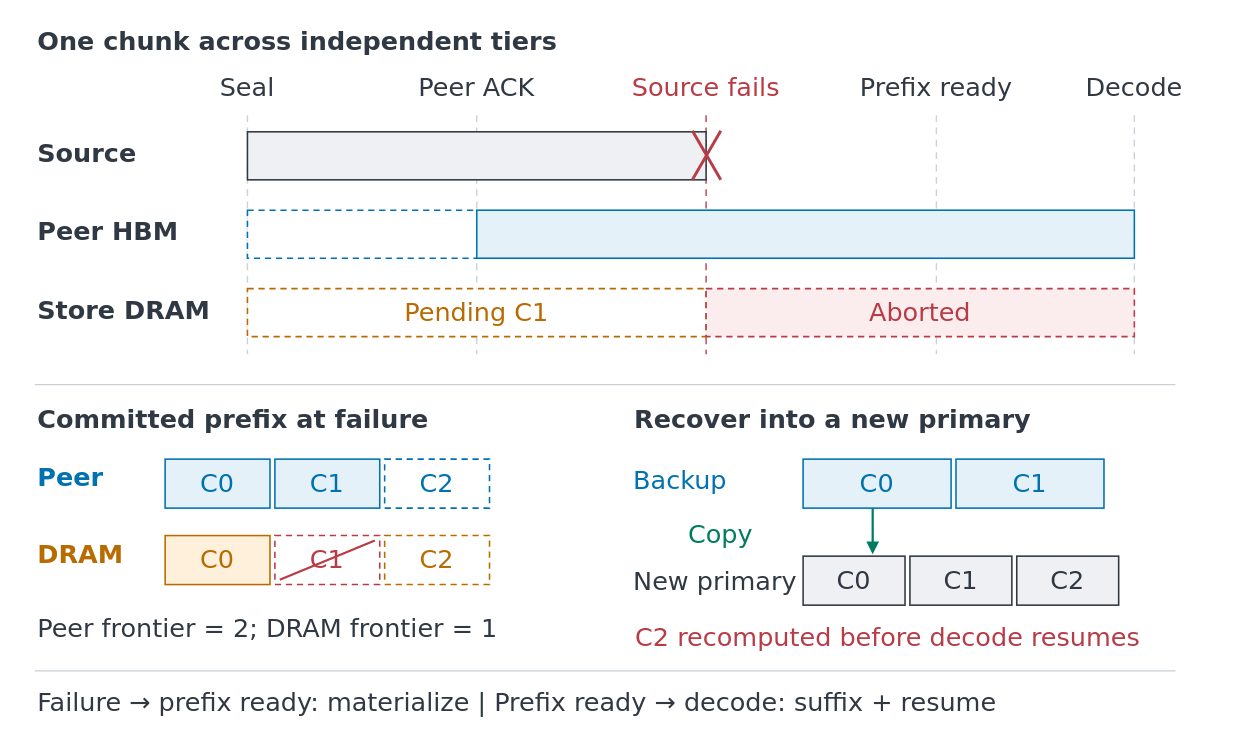
The diagram is 1252 pixels wide and 751 high, and some of its shapes have lost their labels. The shapes that lost their labels are listed below. From the top down, each one's centre as x and y in pixels, then its label:
At point 476,155: "Readable primary C1".
At point 361,234: "Pending".
At point 805,234: "Committed C1 survives".
